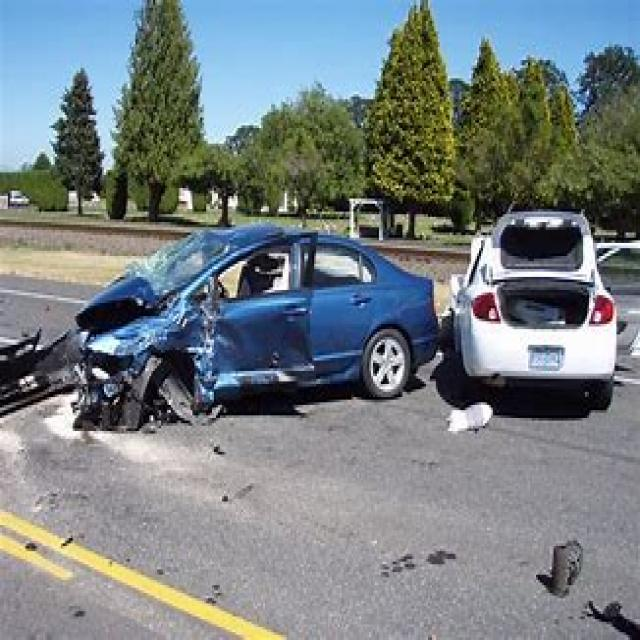Accident: (13, 159, 339, 554), (459, 165, 610, 437)
